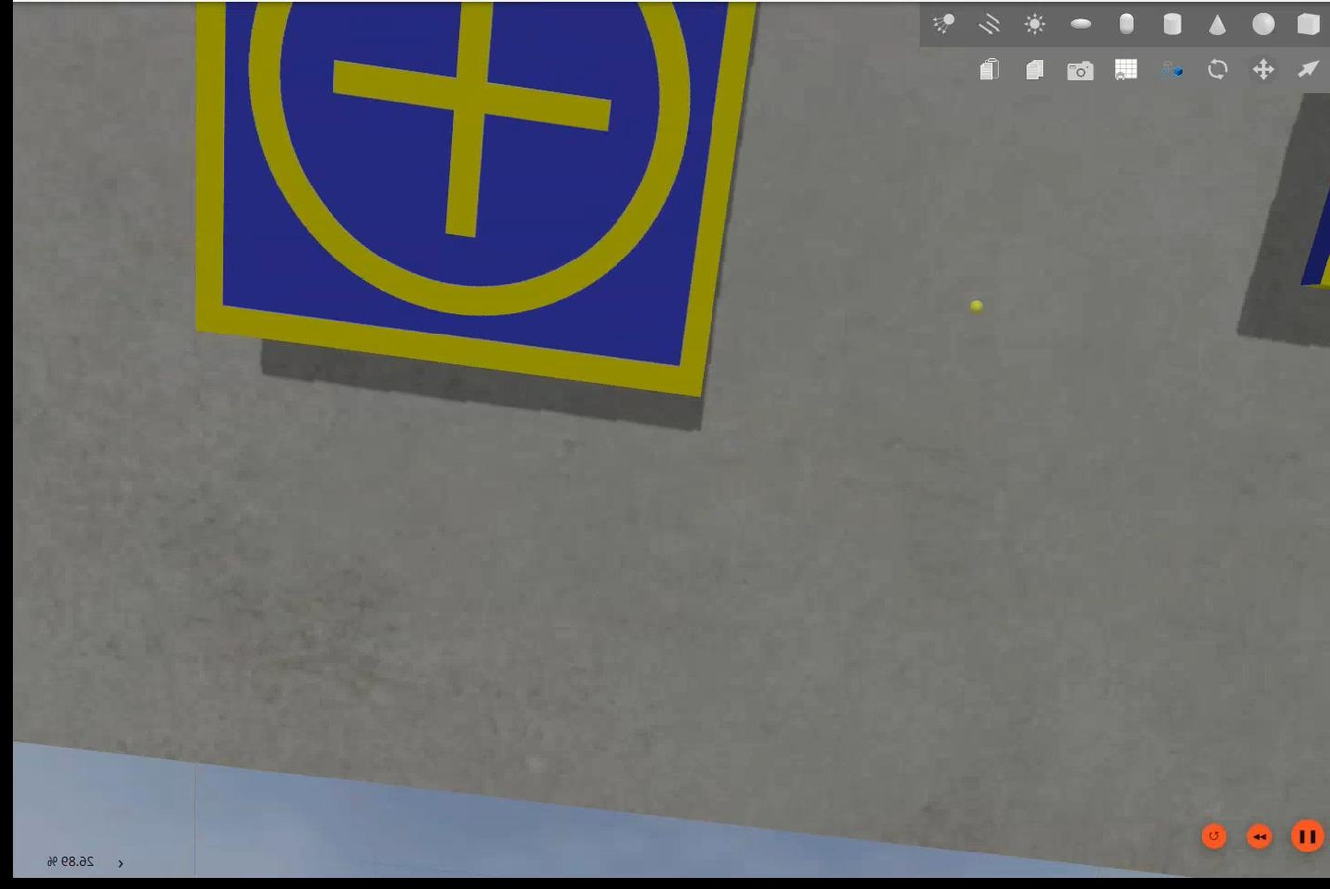small_base: (191, 1, 757, 404)
